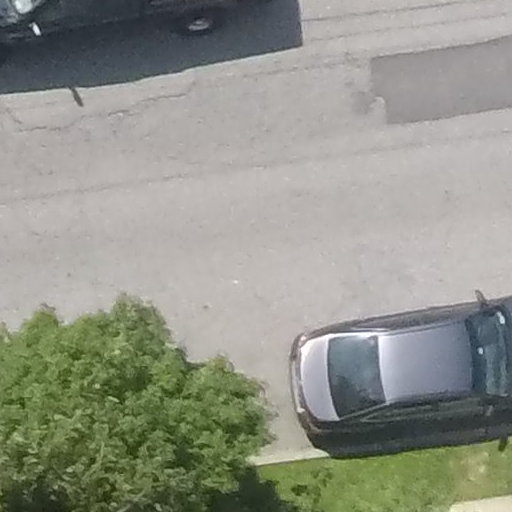car: (259, 249, 512, 449)
